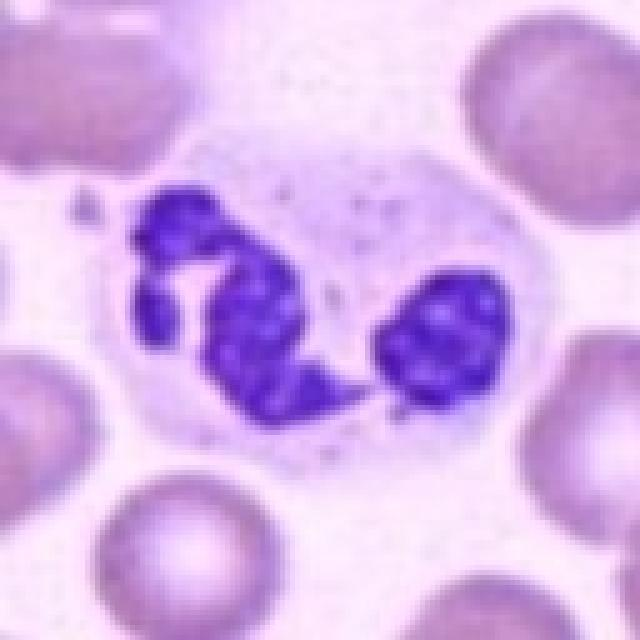neutro: (56, 131, 556, 517)
